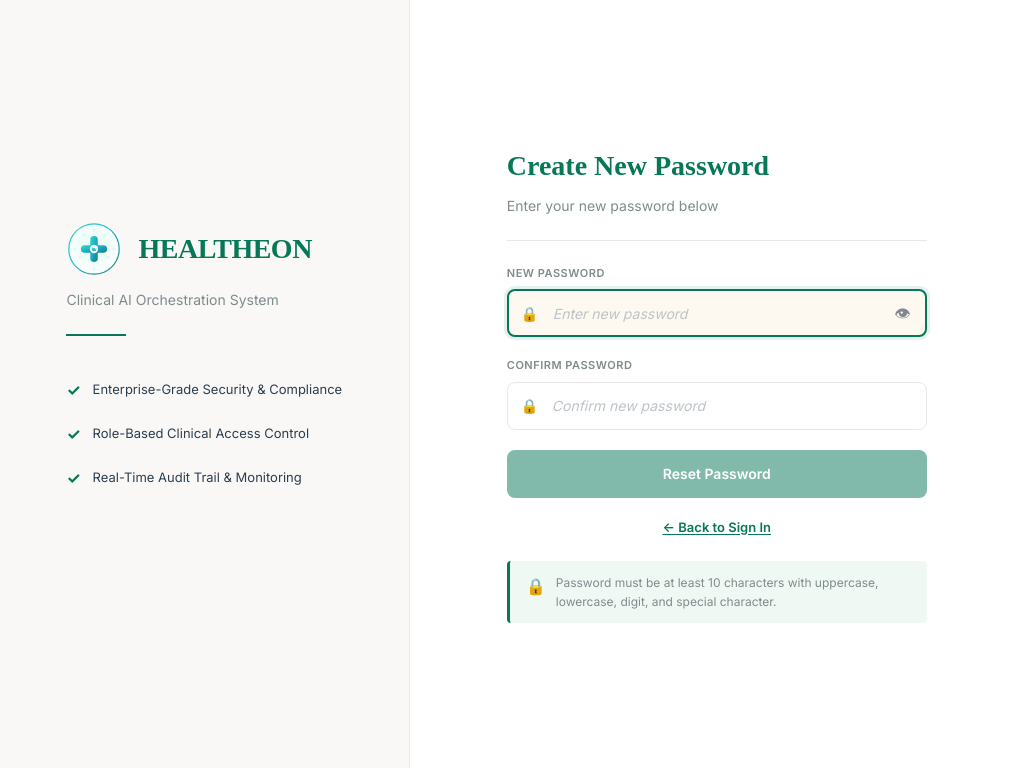
it: ResetPasswordPage › shows success message after reset
In the password field with placeholder "Enter new password": (717, 313) [507, 289, 927, 337], type "NewSecure123!"
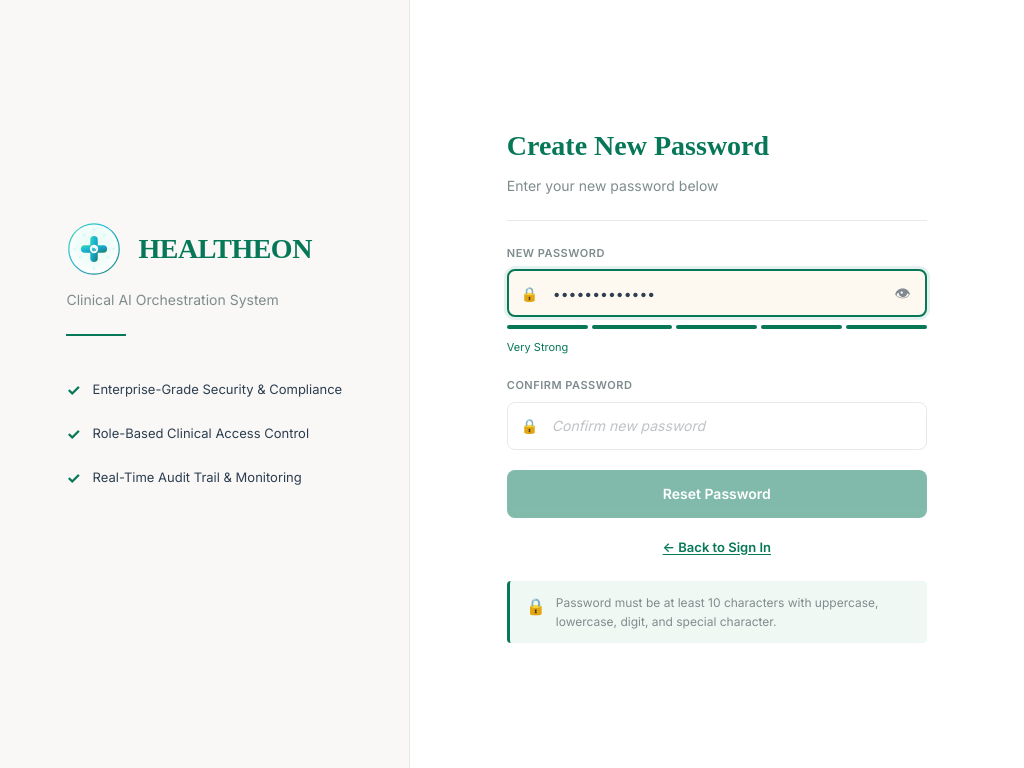
In the password field with placeholder "Confirm new password": (717, 426) [507, 402, 927, 450], type "NewSecure123!"
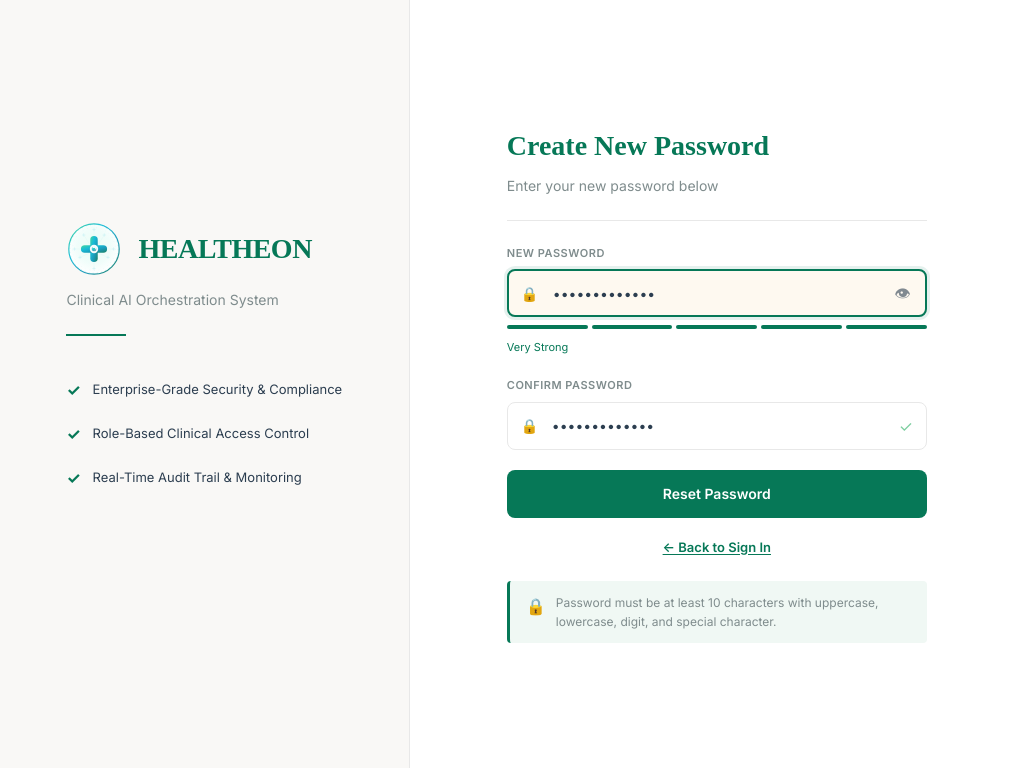
Click the button "Reset Password": (717, 494) [507, 470, 927, 518]
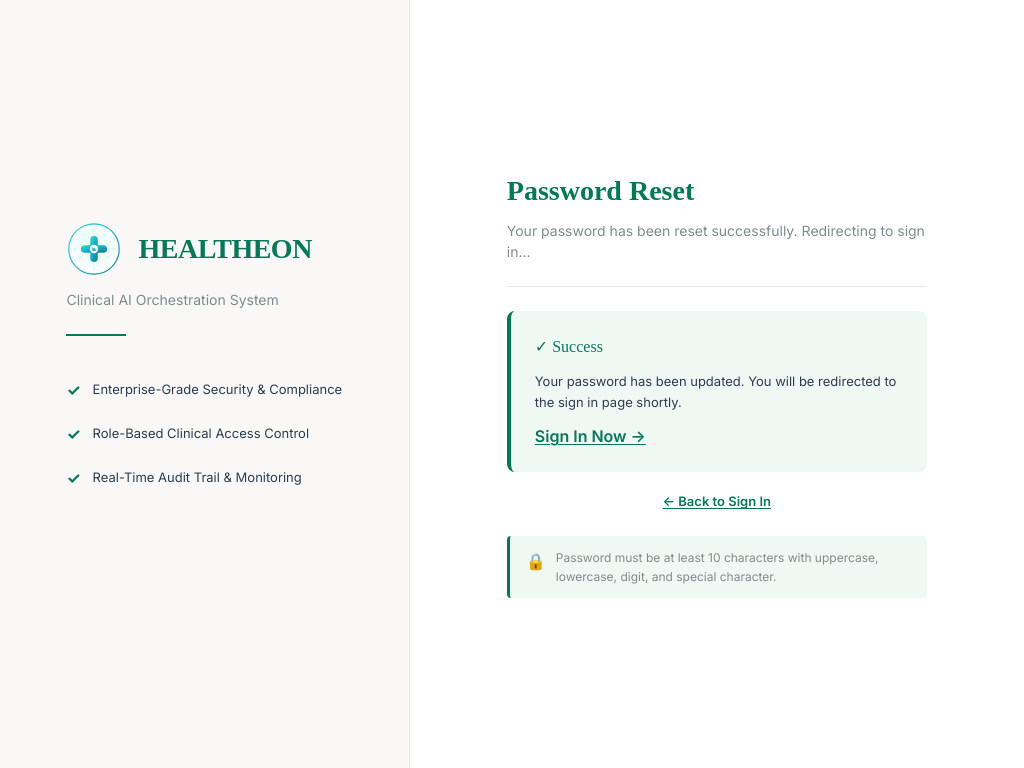
Result: the heading "Password Reset" is shown at [507, 175, 694, 206]
